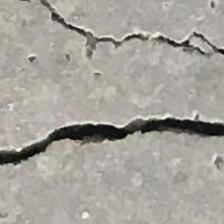Crack: (0, 94, 224, 178), (14, 0, 224, 71)
